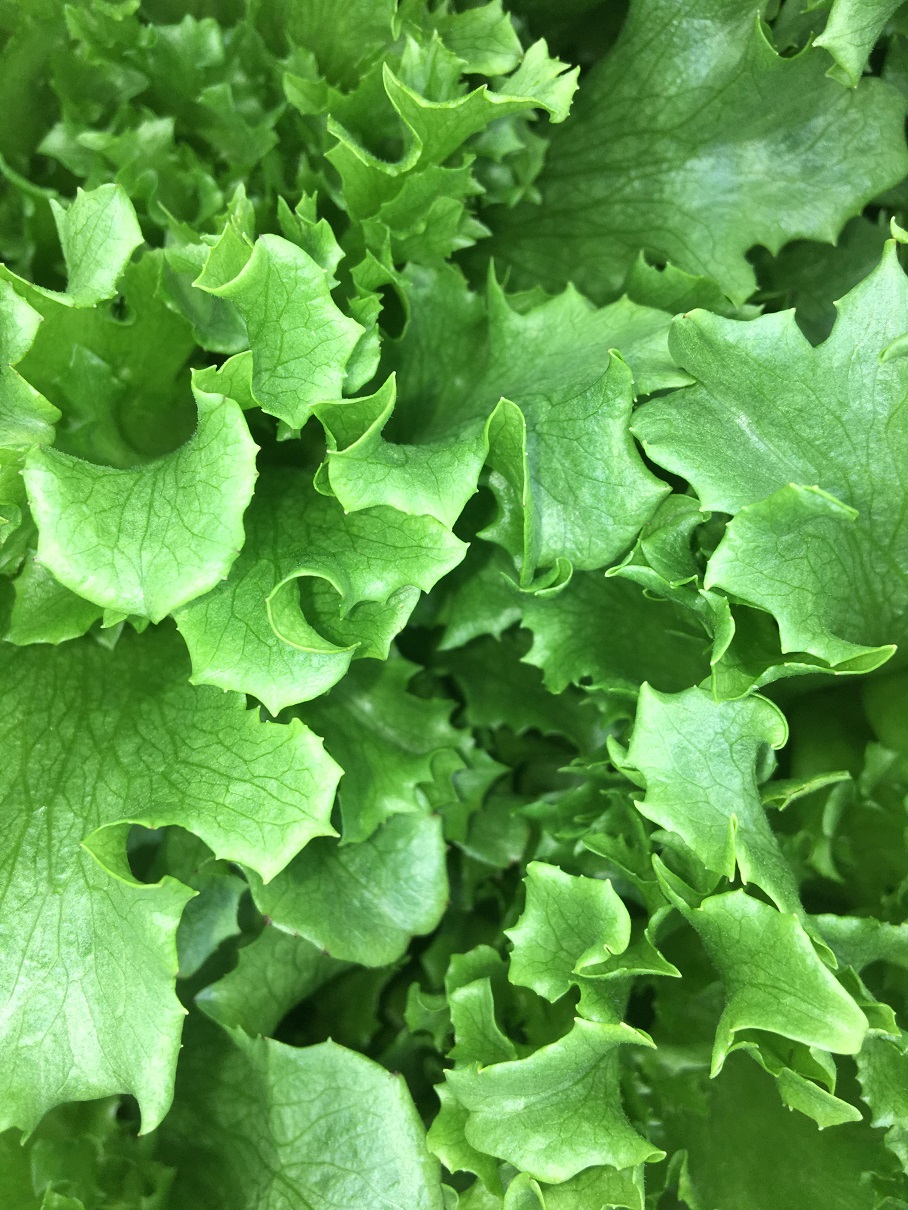tipburn: (367, 1052, 418, 1096), (136, 810, 178, 845), (302, 926, 340, 964), (274, 916, 316, 949), (588, 339, 626, 368), (251, 900, 285, 932), (666, 298, 699, 325)
